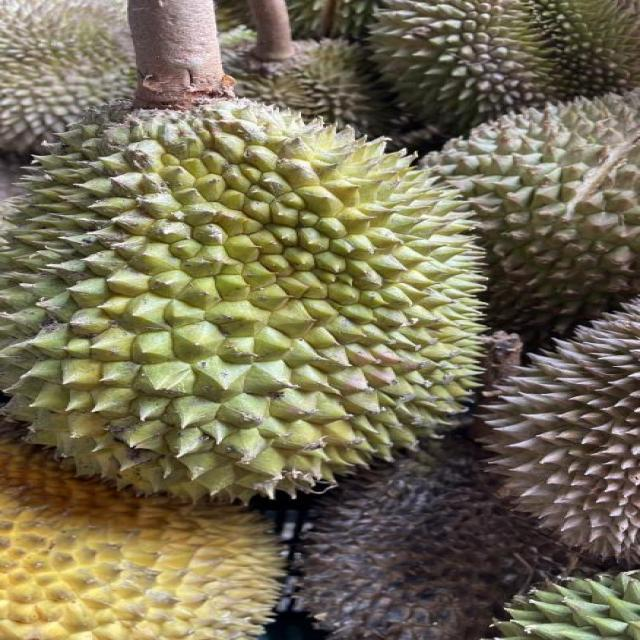defective: (299, 408, 606, 640)
